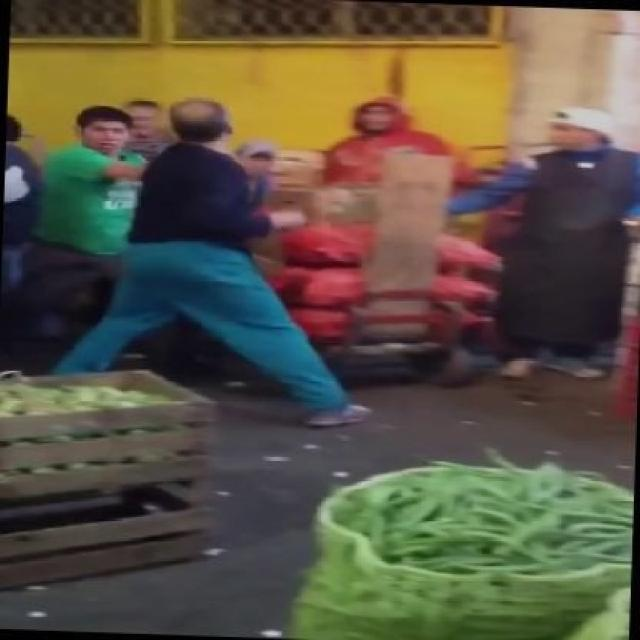fight: (2, 80, 403, 454)
non-fight: (431, 97, 638, 405)
